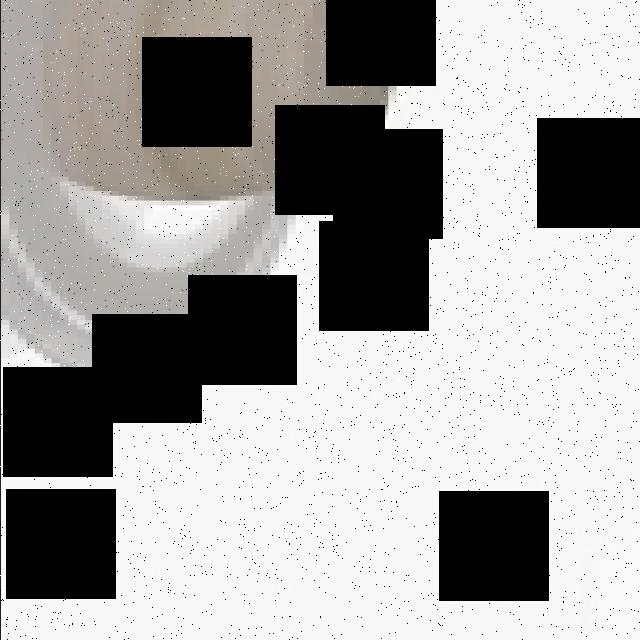Saturn: (0, 0, 412, 387)
